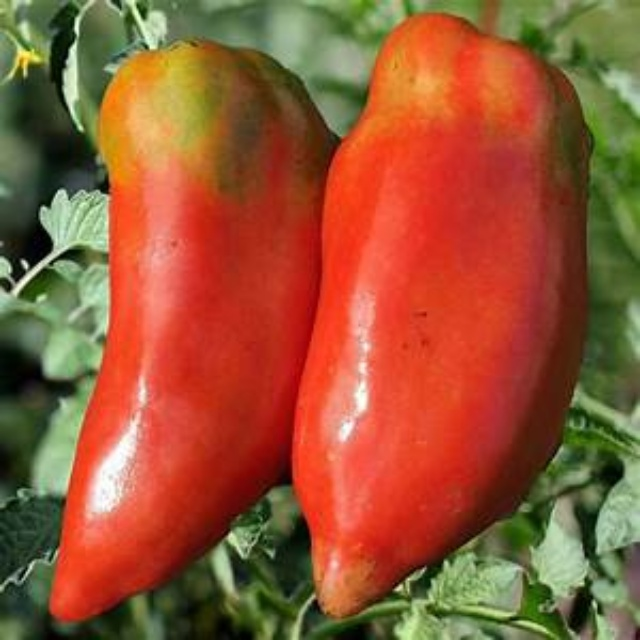tomato: (300, 15, 598, 612), (51, 43, 339, 616)
